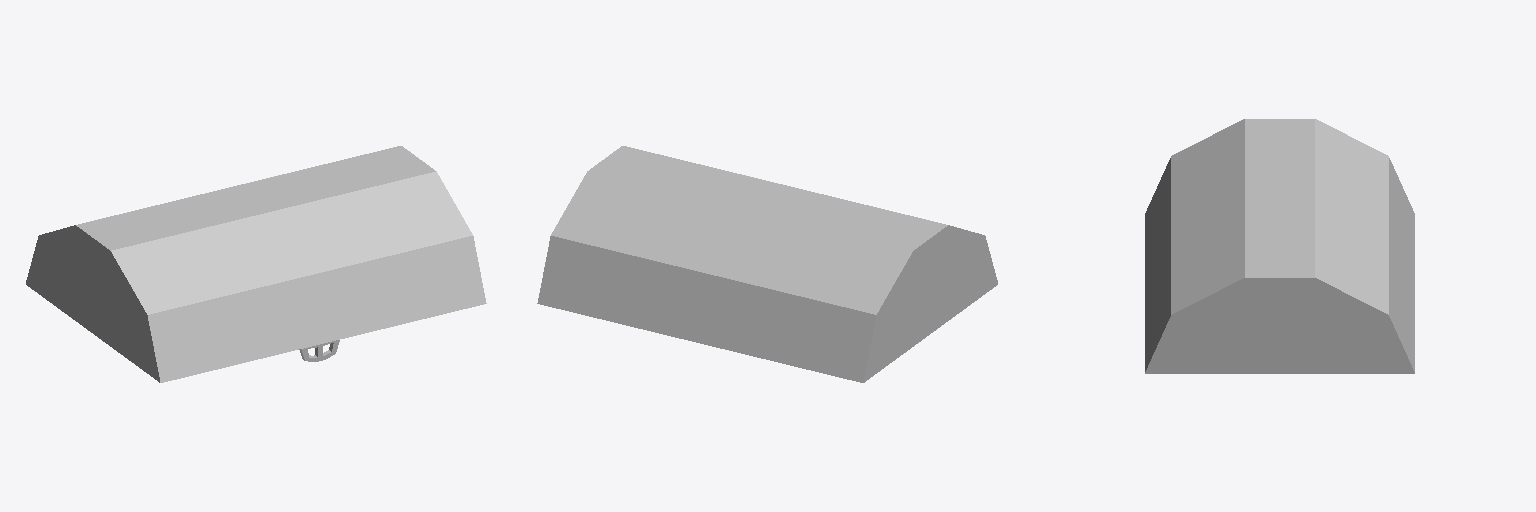
The model's file is chestlid.obj.
3 views of the same model, side by side, from view 1: azimuth 30°, elevation 25°; view 2: azimuth 150°, elevation 25°; view 3: azimuth 270°, elevation 25° (orthographic).
Parts seen in each view (by area): view 1: top; view 2: top; view 3: top.
Boxes of the visible parts, x1,y1,x2,y2 form: top: [26, 146, 486, 382]; top: [537, 146, 997, 382]; top: [1145, 119, 1414, 373].
Bounding box in the file's own units: 6.4 × 2.17 × 4.6.